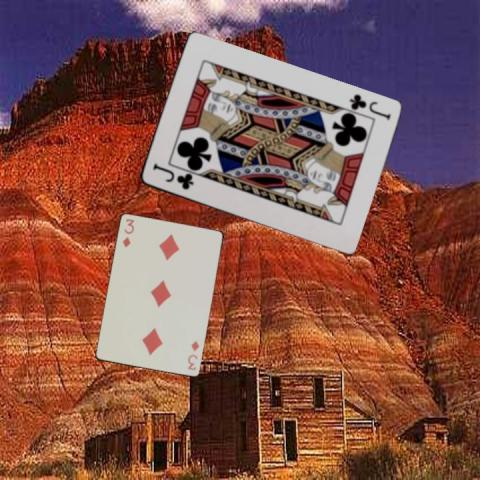3d: (184, 338, 200, 372), (120, 216, 136, 249)
Jc: (346, 91, 392, 122), (149, 162, 195, 192)
